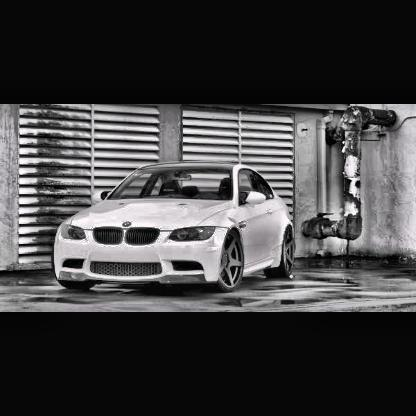BMW M3 Coupe 2012: (48, 160, 298, 296)
